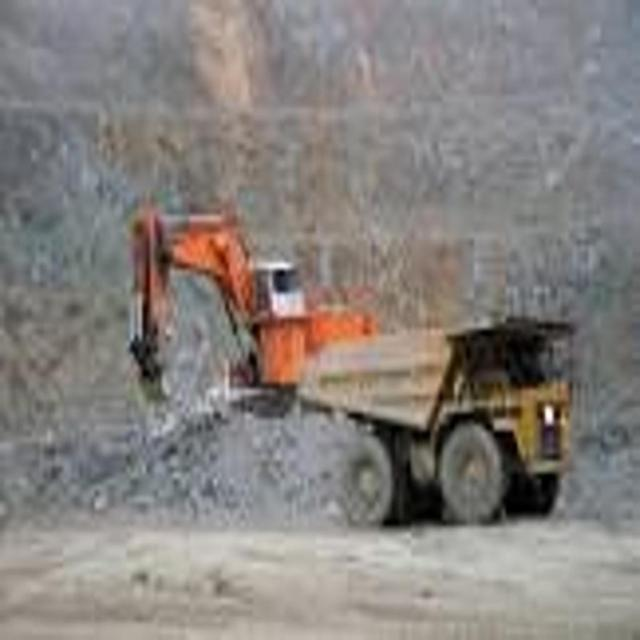dump_truck: (303, 306, 581, 534)
